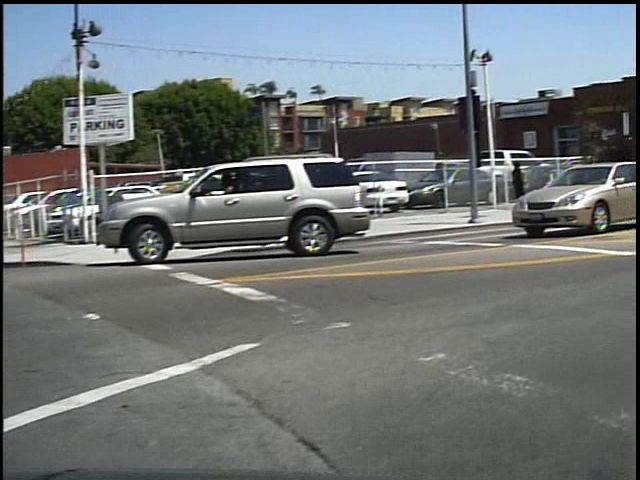person: (515, 158, 539, 214)
